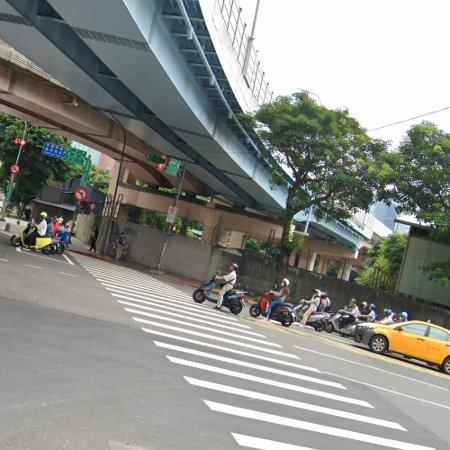crosswalks: (69, 250, 434, 450)
